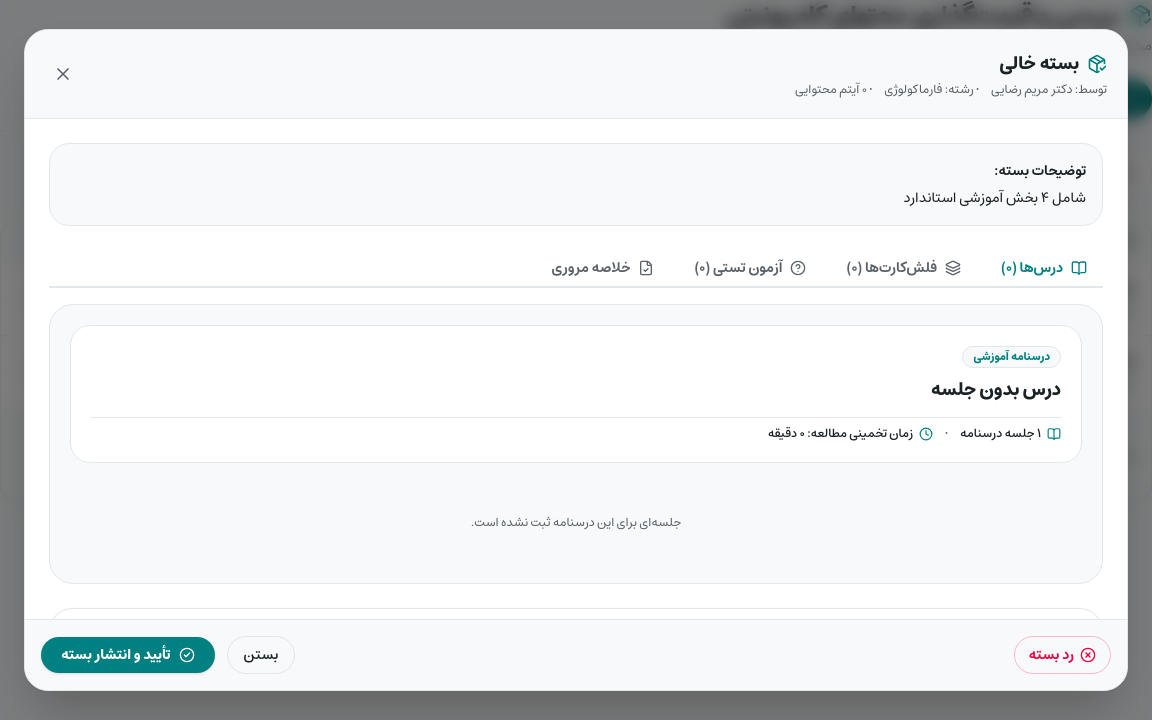
Scenario: AdminCommunityContentPage Component Tests › 4. Resilient to empty / missing sessions, cards, or questions arrays
Expected: the heading "درس بدون جلسه" is shown, [931,374,1061,406]
Expected: the text "جلسه‌ای برای این درسنامه ثبت نشده است." is shown, [471,512,681,533]
Flashcards empty state
Click the button "فلش‌کارت‌ها (۰)" at coordinates (904, 269), box [830,250,977,288]
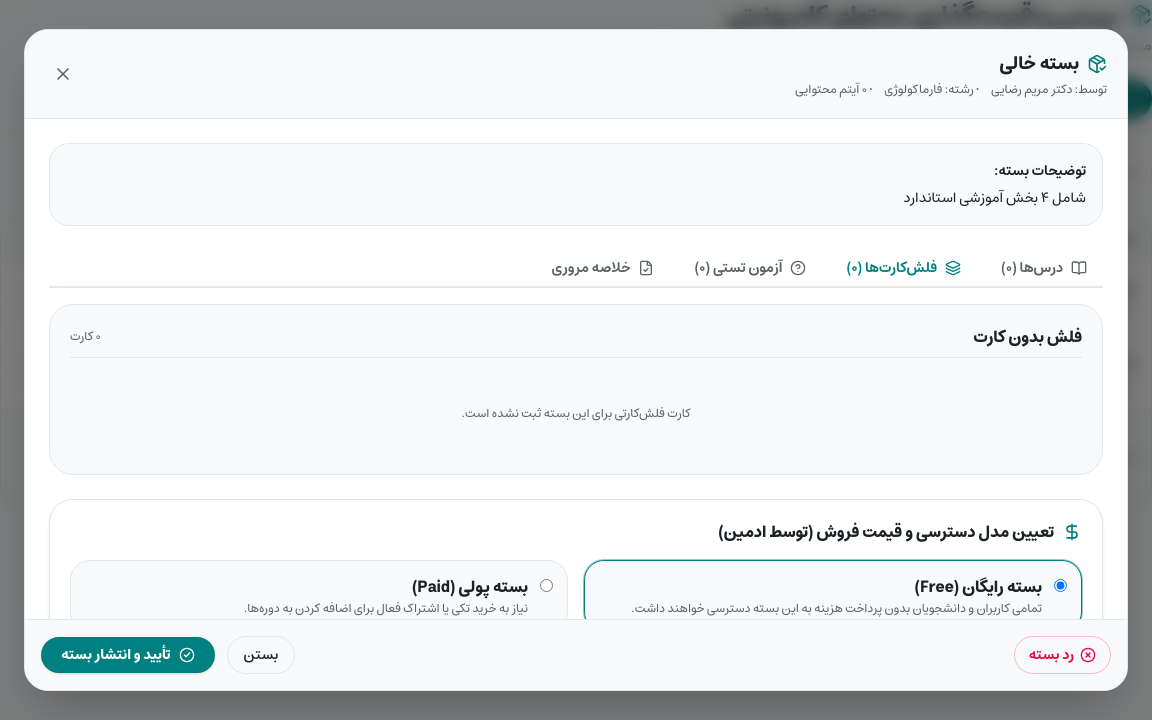
Expected: the text "کارت فلش‌کارتی برای این بسته ثبت نشده است." is shown, [462,403,690,424]
Quiz empty state
Click the button "آزمون تستی (۰)" at coordinates (750, 269), box [678,250,822,288]
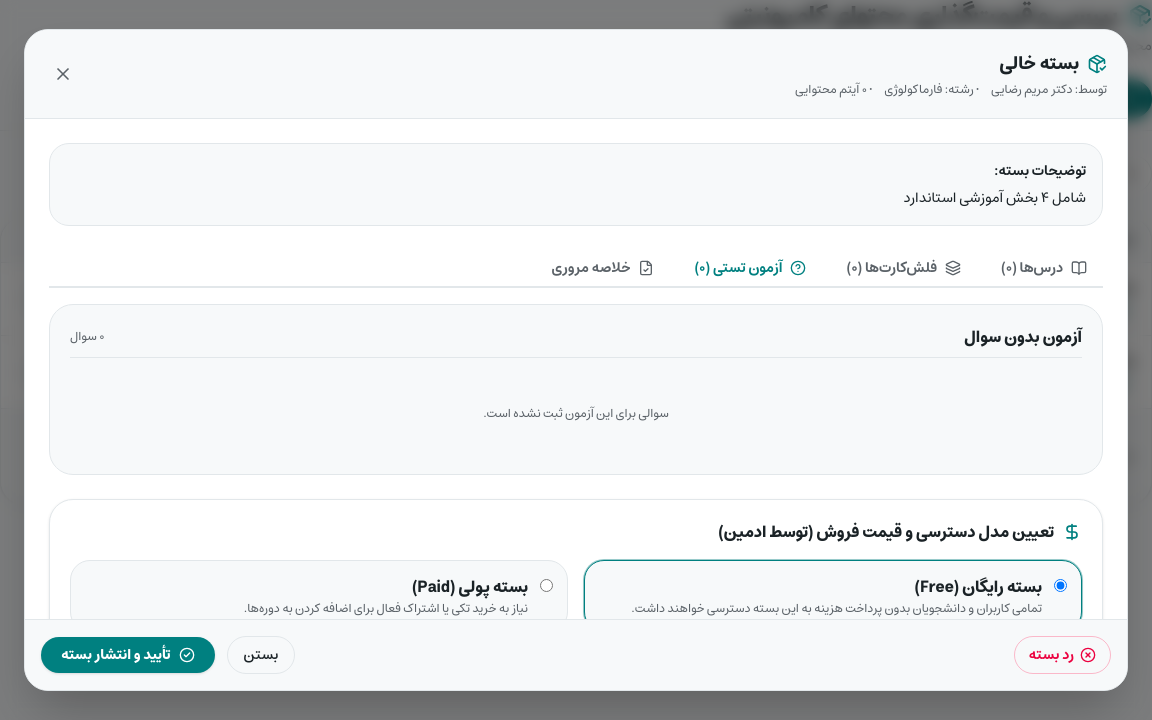
Expected: the text "سوالی برای این آزمون ثبت نشده است." is shown, [483,403,669,424]
